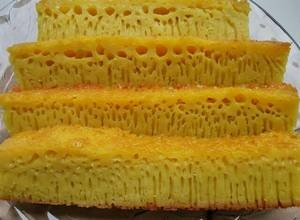bika_ambon: (5, 46, 298, 207)
